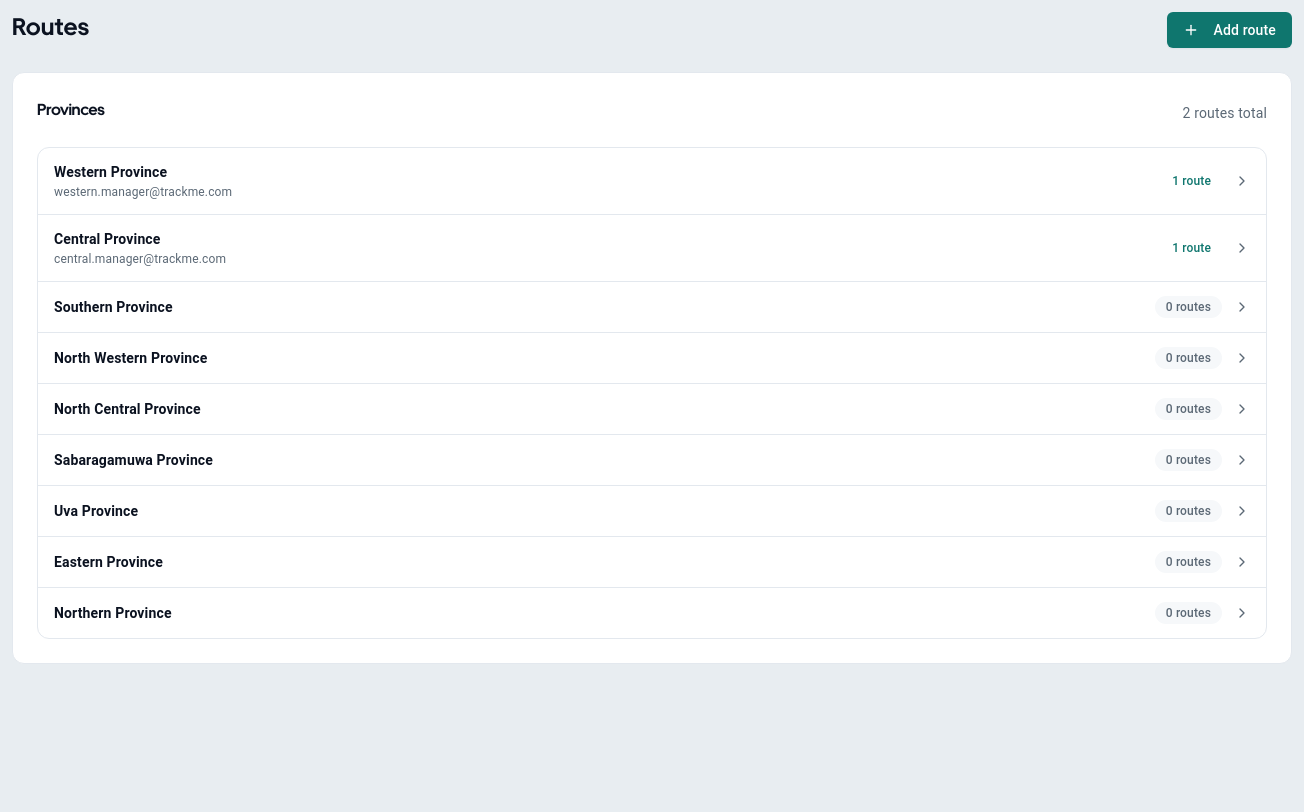
Test: RoutesPage › returns to province list when "All provinces" is clicked
Click the button "Western Province" at (81,172), box [38, 148, 1266, 214]
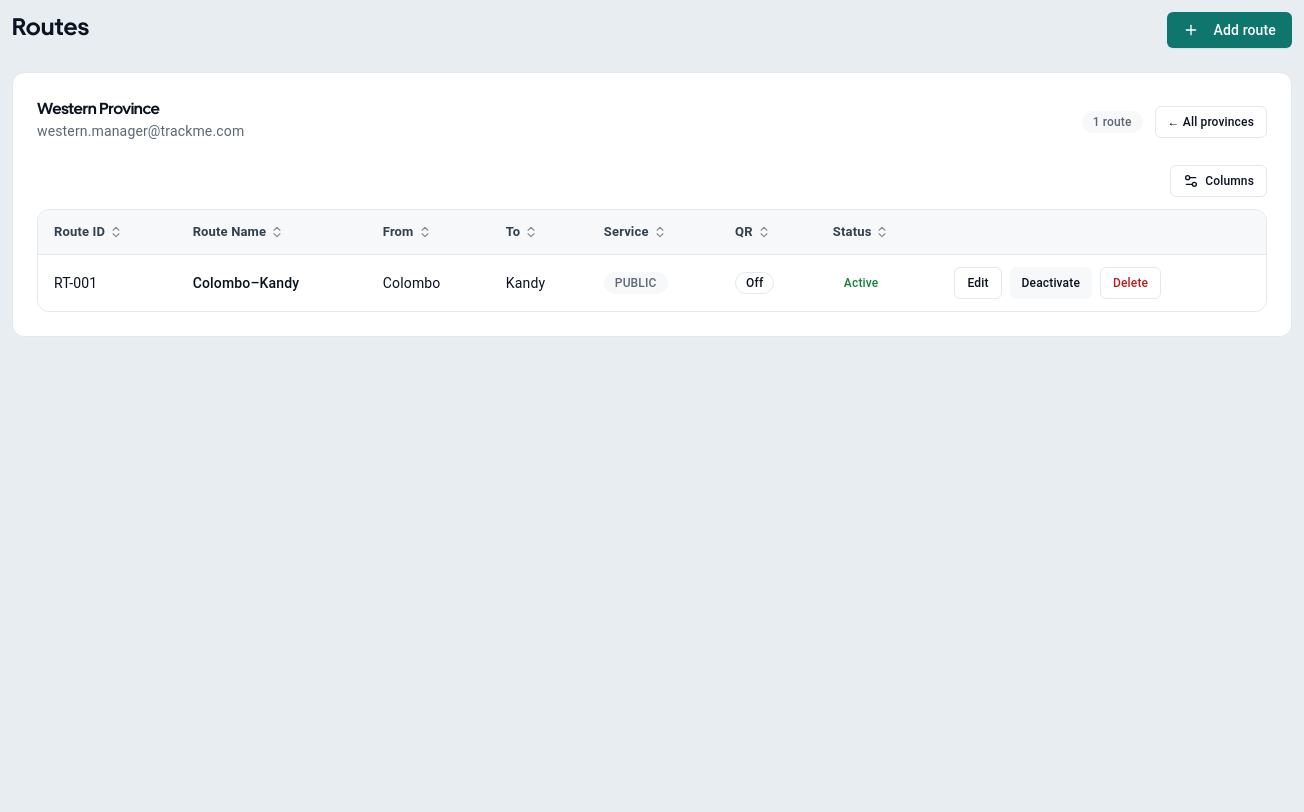
Expected: the text "Colombo–Kandy" is shown, [193, 274, 299, 290]
Click the button "← All provinces" at (1211,122), box [1154, 106, 1267, 138]
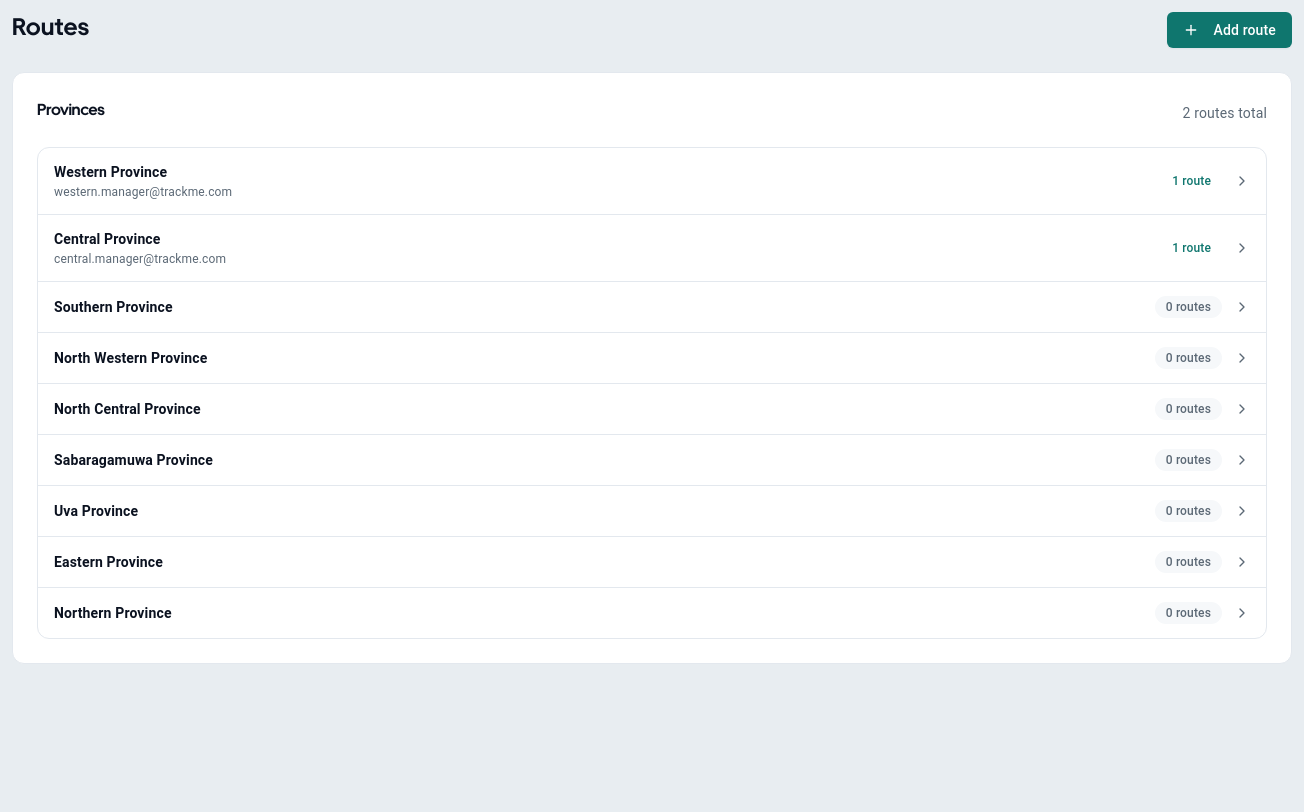
Expected: the heading "Provinces" is shown, [37, 98, 104, 122]
